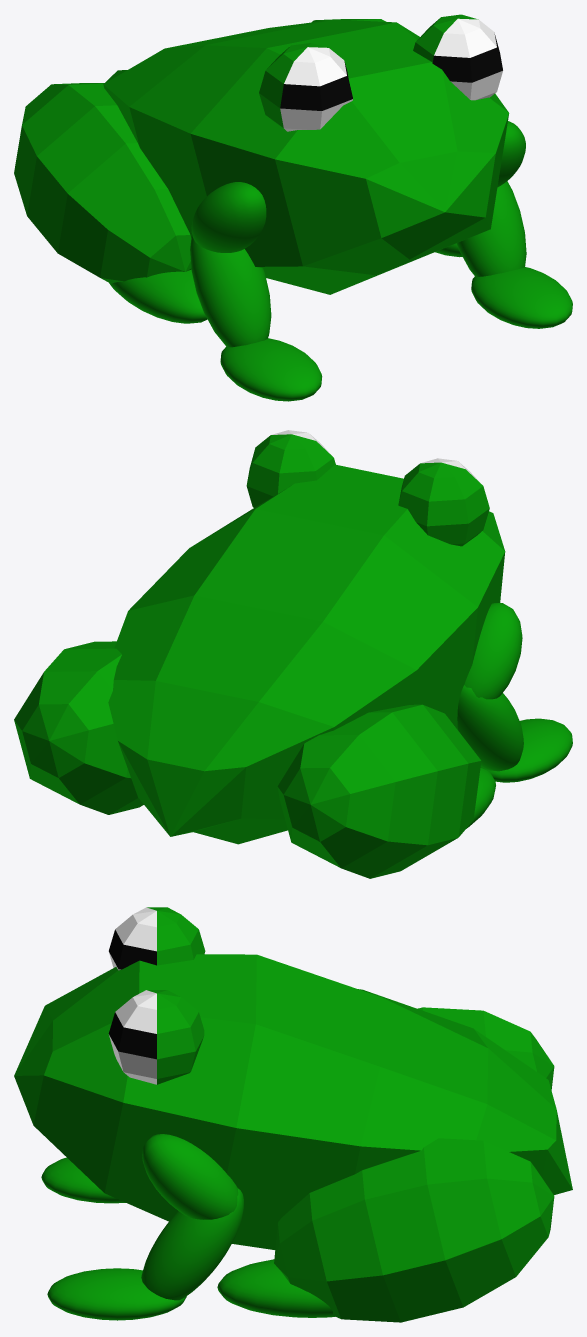
Rendered from frog.fbx.
The picture shows the model from 3 angles, top to bottom: view 1: azimuth 30°, elevation 25°; view 2: azimuth 150°, elevation 25°; view 3: azimuth 270°, elevation 25°; orthographic projection.
Parts seen in each view (by area): view 1: pSphere36, pSphere38, pSphere46, pSphere48, pSphere45, pSphere44, pSphere41, pSphere49, pSphere42, pSphere40, pSphere47; view 2: pSphere36, pSphere38, pSphere37, pSphere46, pSphere45, pSphere48, pSphere49, pSphere44, pSphere40; view 3: pSphere36, pSphere37, pSphere45, pSphere42, pSphere47, pSphere41, pSphere46, pSphere39, pSphere38, pSphere44.
Boxes of the visible parts, <box> form: pSphere36: <box>103,19,509,294</box>; pSphere38: <box>14,83,191,283</box>; pSphere46: <box>259,43,352,131</box>; pSphere48: <box>190,234,271,347</box>; pSphere45: <box>413,14,502,100</box>; pSphere44: <box>220,338,322,401</box>; pSphere41: <box>471,267,572,328</box>; pSphere49: <box>191,182,266,252</box>; pSphere42: <box>456,181,526,276</box>; pSphere40: <box>109,269,207,323</box>; pSphere47: <box>497,121,525,187</box>; pSphere36: <box>108,464,505,844</box>; pSphere38: <box>277,704,481,878</box>; pSphere37: <box>14,641,143,814</box>; pSphere46: <box>398,458,489,546</box>; pSphere45: <box>246,430,335,507</box>; pSphere48: <box>457,685,523,771</box>; pSphere49: <box>464,603,522,699</box>; pSphere44: <box>480,718,572,782</box>; pSphere40: <box>466,767,495,828</box>; pSphere36: <box>14,954,572,1249</box>; pSphere37: <box>274,1138,554,1322</box>; pSphere45: <box>108,990,204,1084</box>; pSphere42: <box>141,1188,243,1300</box>; pSphere47: <box>142,1134,238,1219</box>; pSphere41: <box>47,1268,186,1320</box>; pSphere46: <box>108,907,205,970</box>; pSphere39: <box>217,1259,335,1317</box>; pSphere38: <box>418,1007,554,1090</box>; pSphere44: <box>41,1157,125,1203</box>.
Size of the model in its own units: 2.64 by 1.91 by 3.09.
